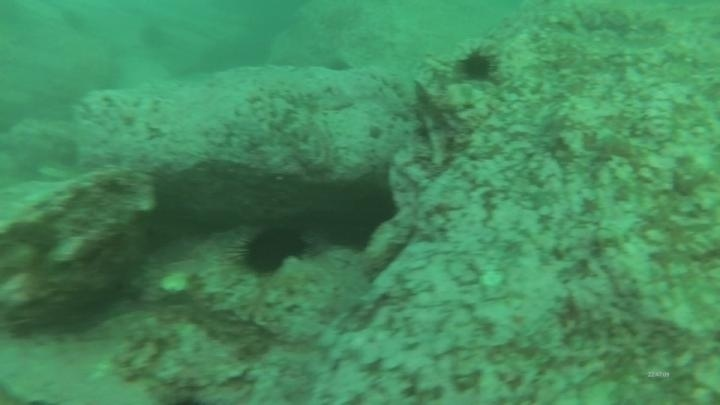echinus: (232, 221, 311, 278), (456, 46, 499, 84)
